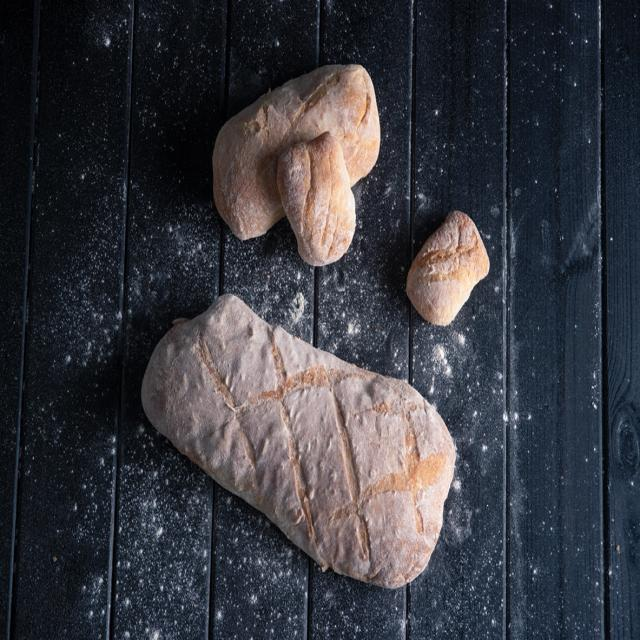Ciabatta: (142, 294, 455, 587), (214, 65, 380, 239), (277, 132, 355, 265), (407, 211, 489, 325)
